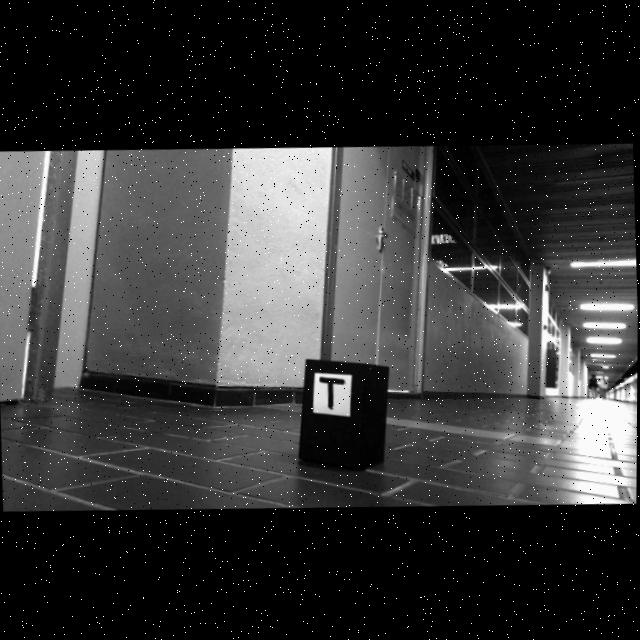T: (320, 375, 346, 406)
